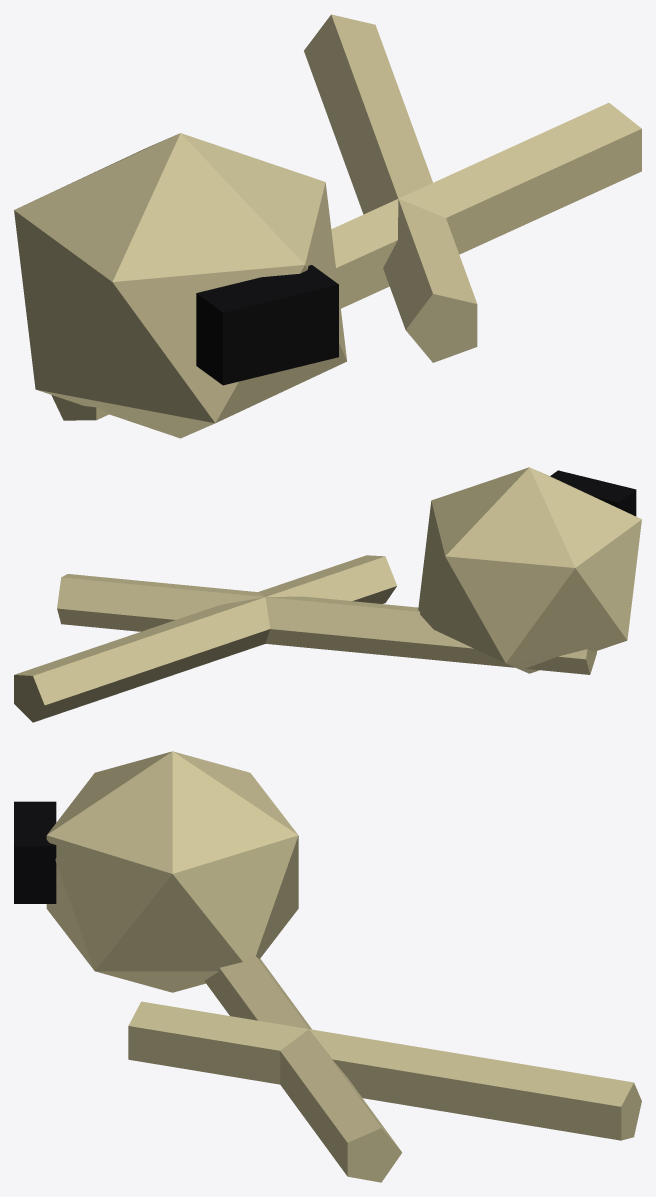
File: bone_pile.obj
3 views of the same model, one above another, from view 1: azimuth 30°, elevation 25°; view 2: azimuth 150°, elevation 25°; view 3: azimuth 270°, elevation 25° (orthographic). The views are drawn at different scales.
Parts seen in each view (by area): view 1: bone_pile; view 2: bone_pile; view 3: bone_pile.
Part boxes in pixels (x1,y1,x2,y2): bone_pile: (14, 14, 641, 438); bone_pile: (14, 467, 641, 722); bone_pile: (14, 751, 641, 1182).
Bounding box in the file's own units: 0.619 × 0.252 × 0.5939.
